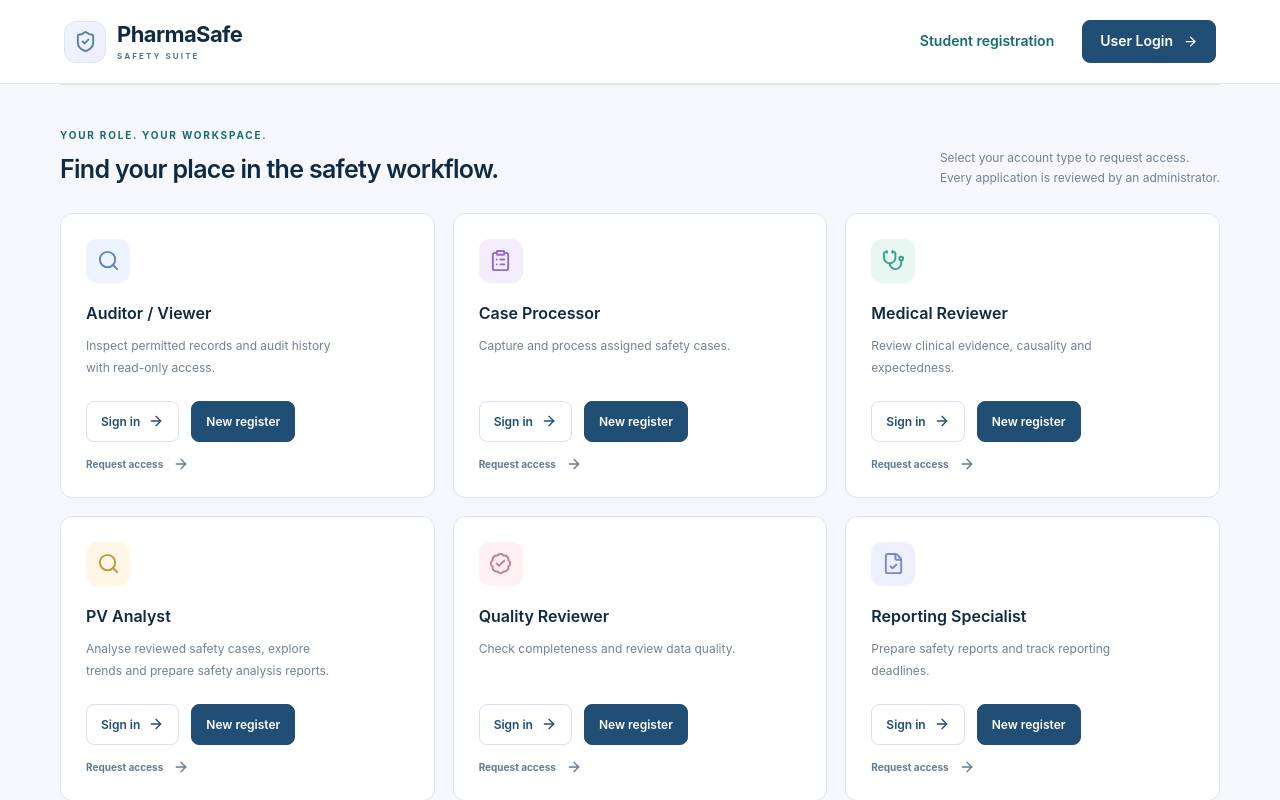
Test case: Public user access › shows registration API errors and permits retry
What coordinates should you click on to do the following:
click the button with aria-label "Request access as Medical Reviewer"
I would click on:
 (923, 464)
Its box is [871,456,975,472].
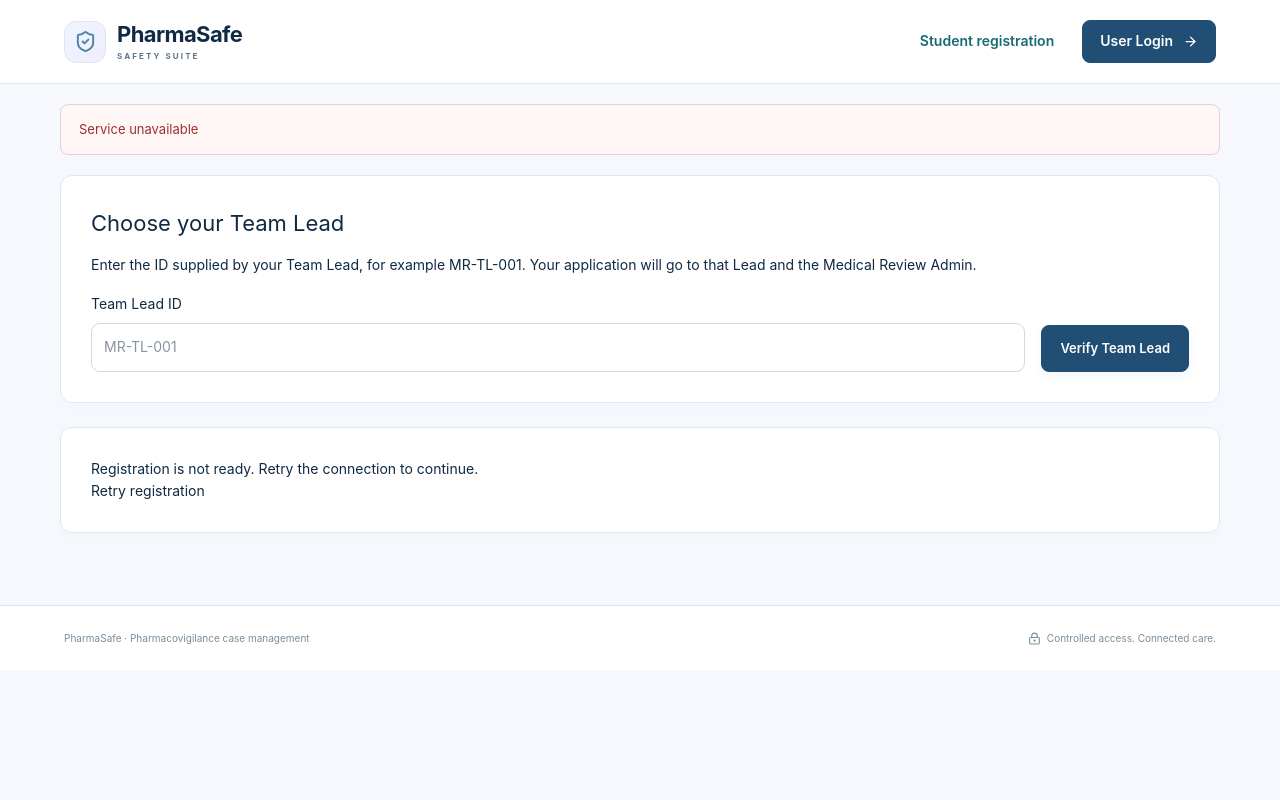
Result: the message "Service unavailable" is shown at [60,104,1220,155]
Result: the button "Retry registration" is enabled at [91,480,205,502]
